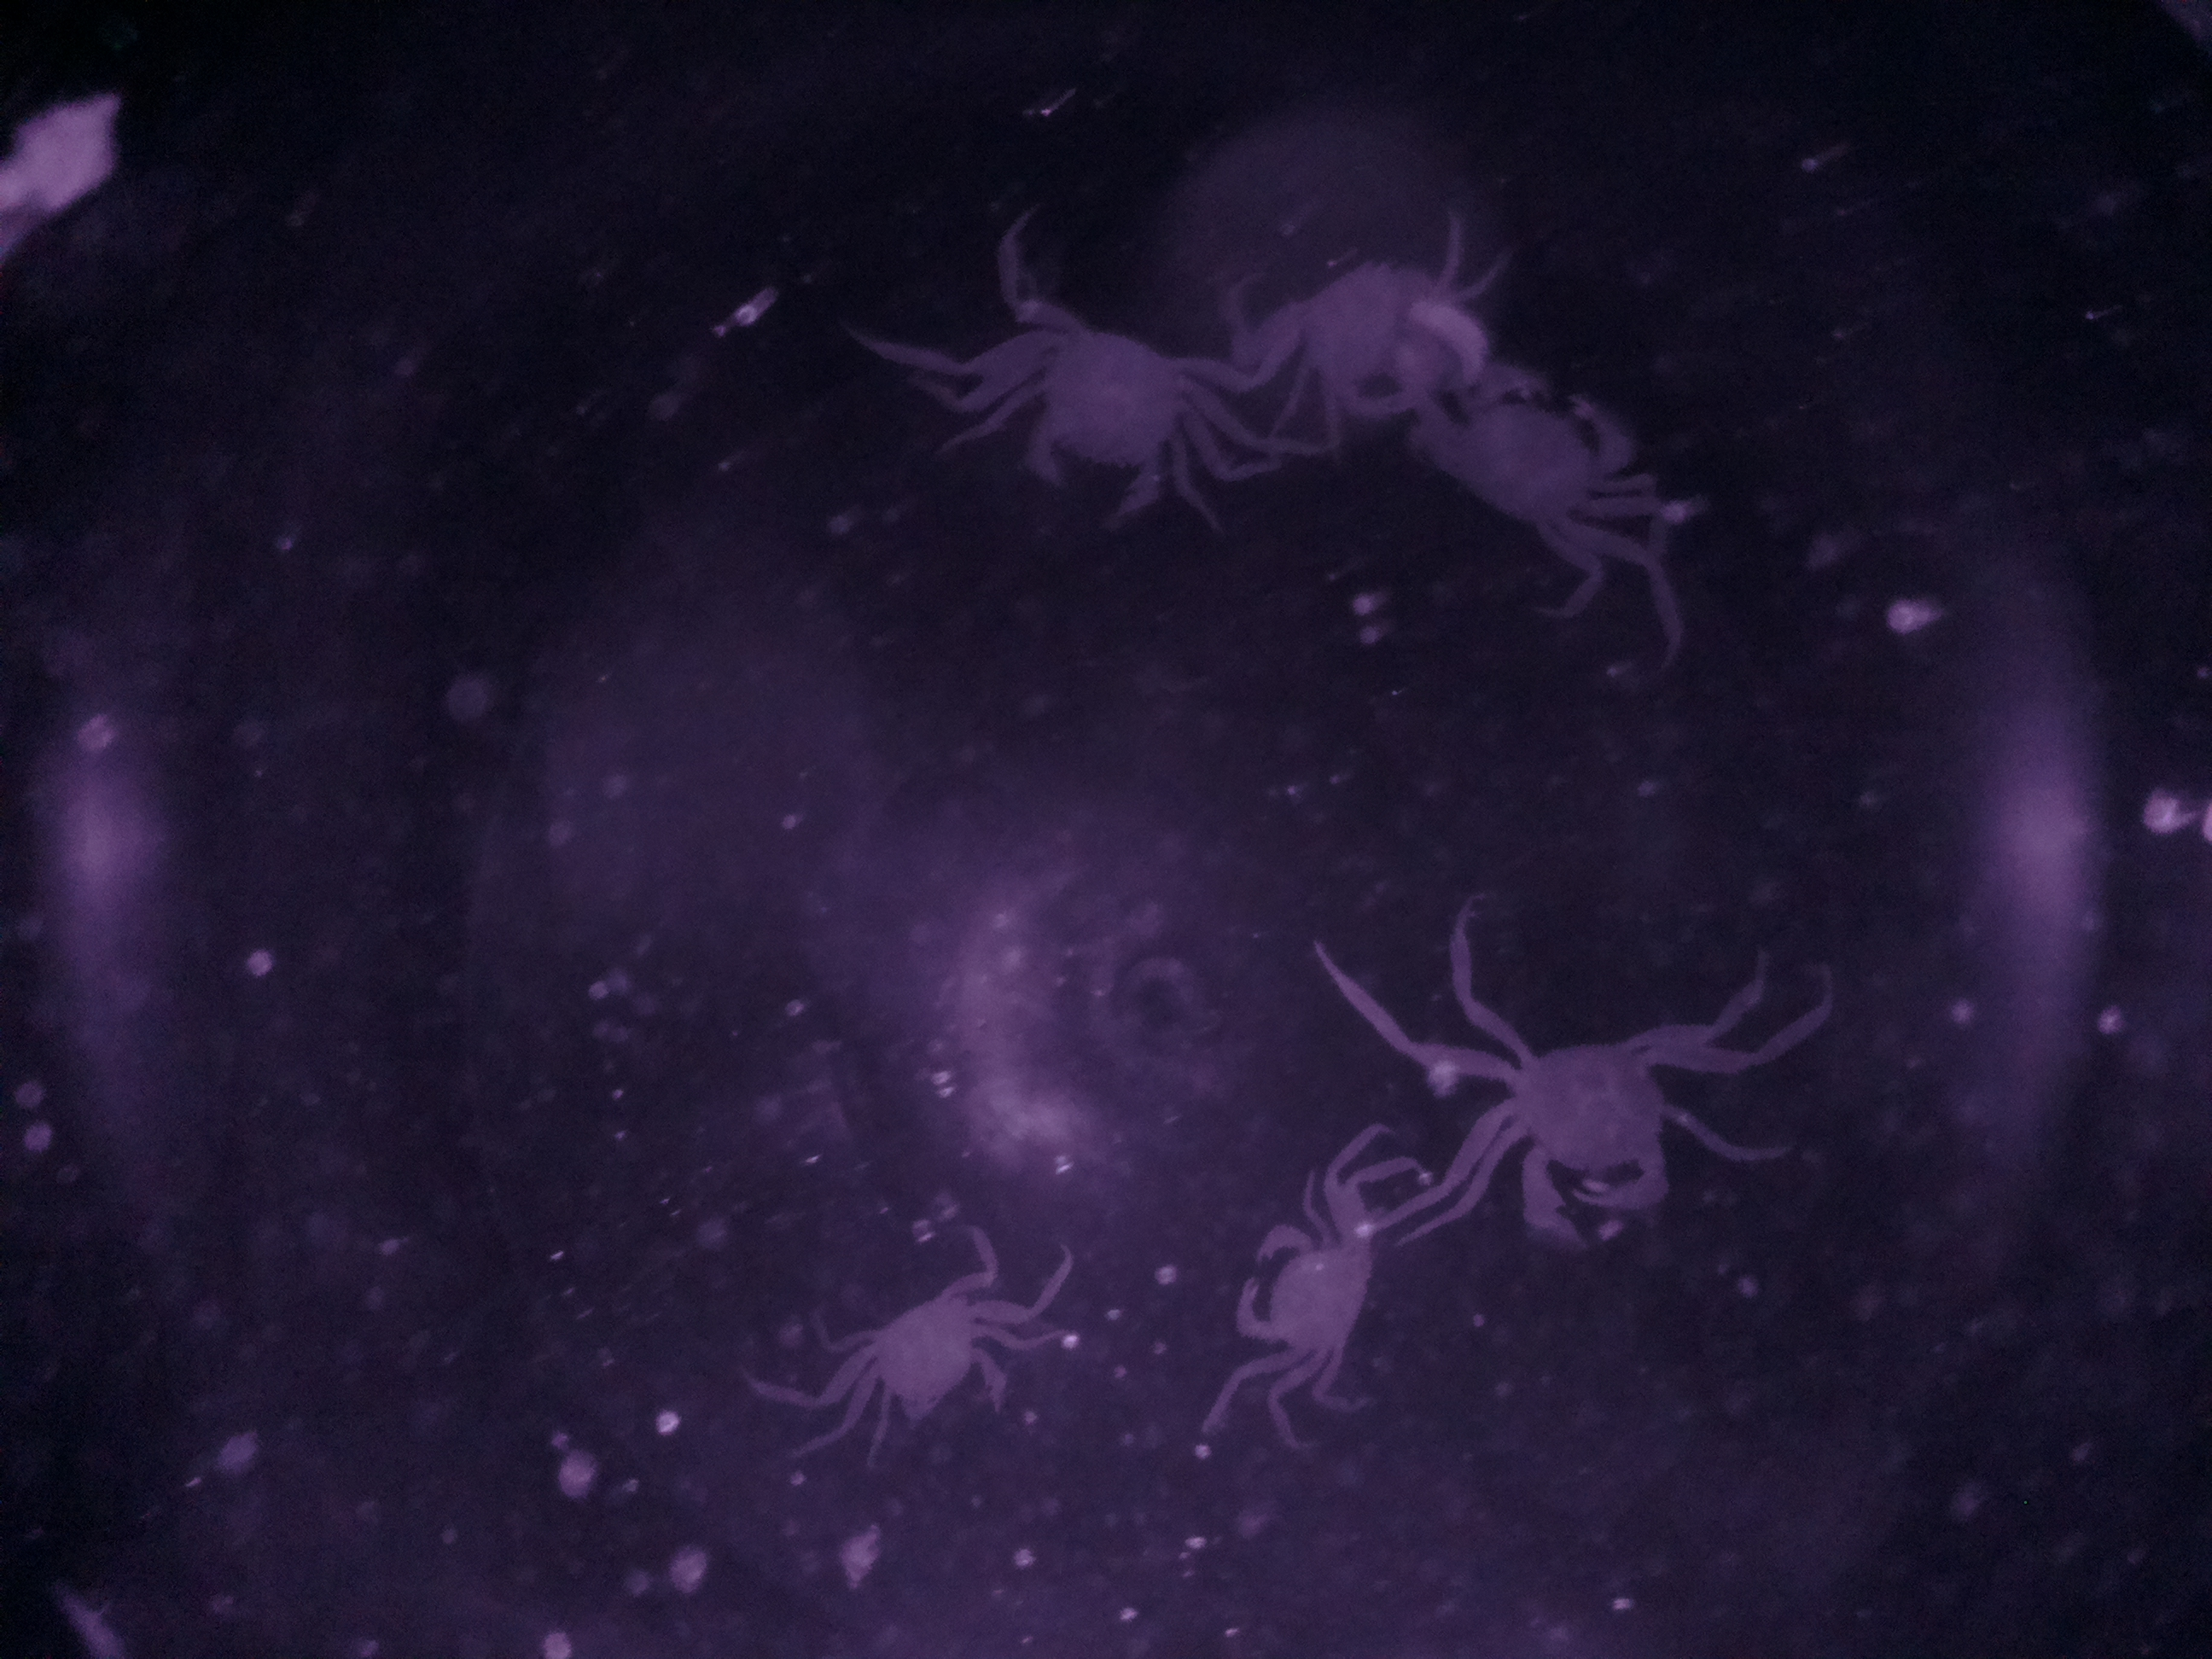Crab: (1437, 1007, 1737, 1267), (965, 284, 1256, 538), (817, 1265, 1055, 1476), (1221, 1178, 1404, 1417)
